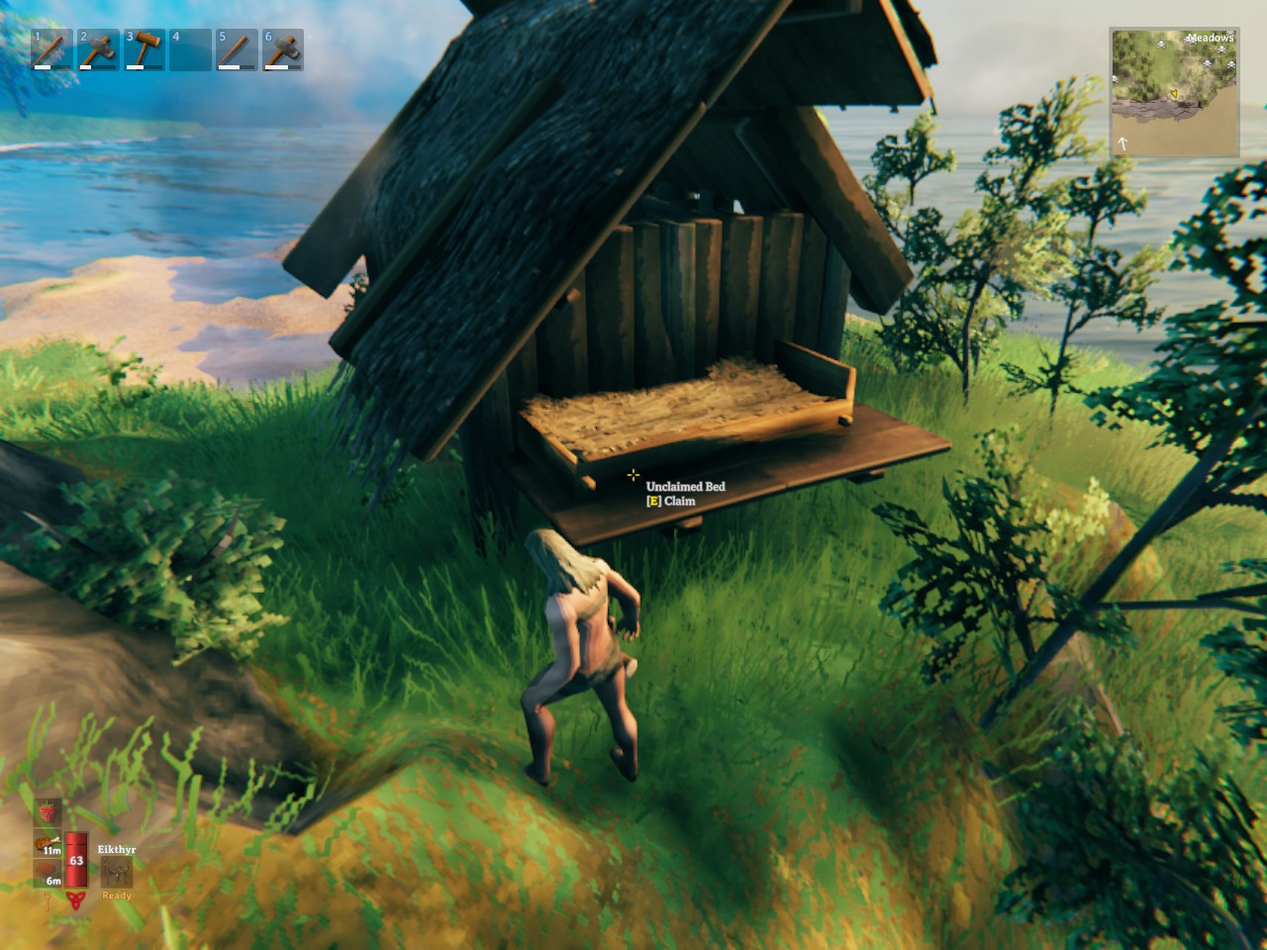Bed: (519, 339, 855, 496)
Food Indicator: (36, 797, 63, 891)
Health Bar: (63, 820, 90, 891)
Hotbar: (25, 21, 398, 78)
House: (286, 2, 954, 550)
